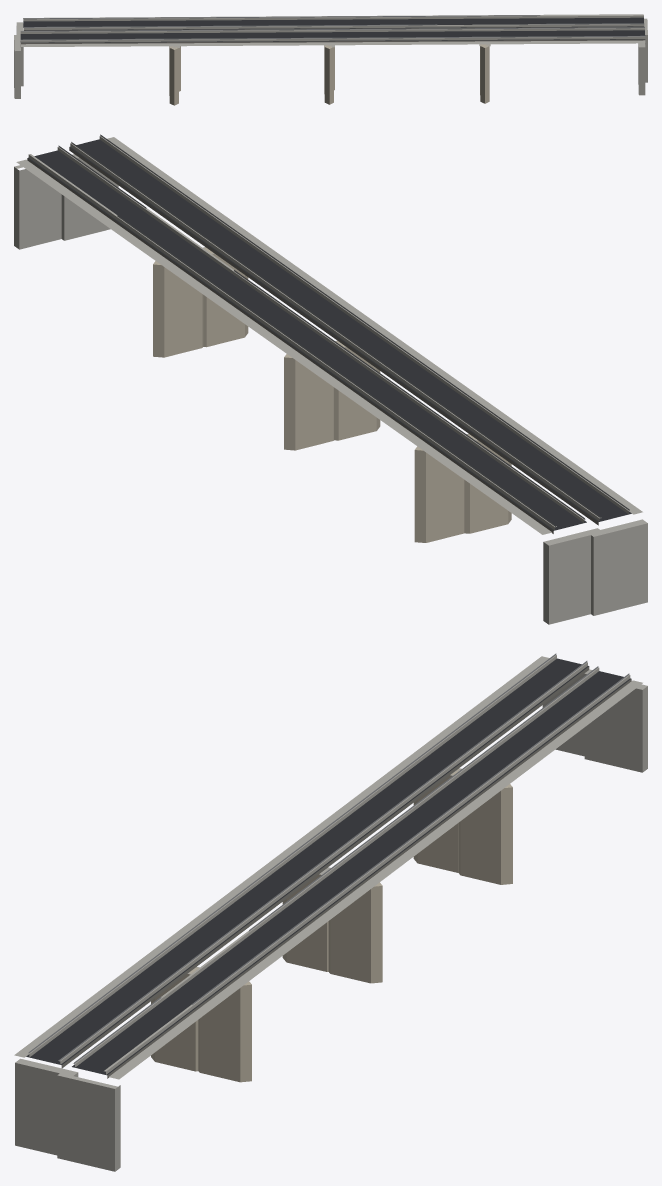
File: br_r13_low_level_lod3.gltf
The picture shows the model from 3 angles, top to bottom: view 1: azimuth 30°, elevation 25°; view 2: azimuth 150°, elevation 25°; view 3: azimuth 270°, elevation 25°; orthographic projection. The views are drawn at different scales.
Visible parts, largest first — view 1: br_r13_low_level_lod3; view 2: br_r13_low_level_lod3; view 3: br_r13_low_level_lod3.
Part boxes in pixels (box(x1,y1,x2,y2)): br_r13_low_level_lod3: box(14, 14, 647, 105); br_r13_low_level_lod3: box(14, 134, 647, 624); br_r13_low_level_lod3: box(14, 653, 647, 1171).
Bounding box in the file's own units: 201 × 24.1 × 126.
